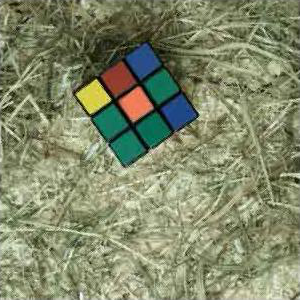rubik: (72, 45, 200, 169)
